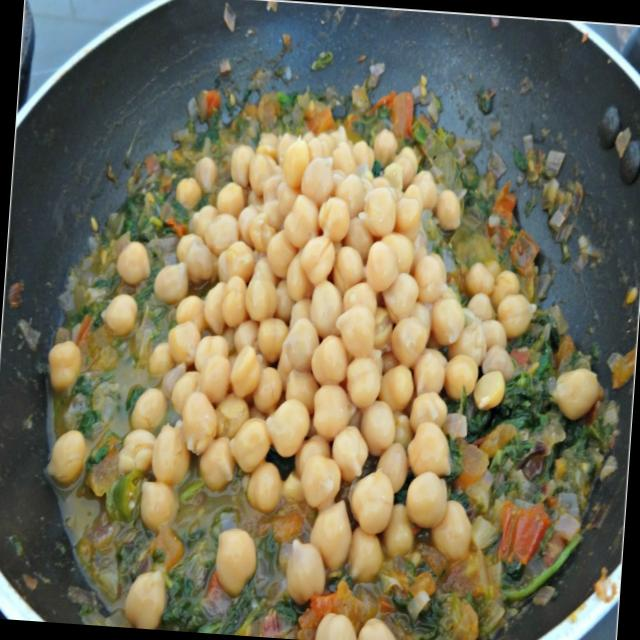Chole: (30, 74, 623, 640)
